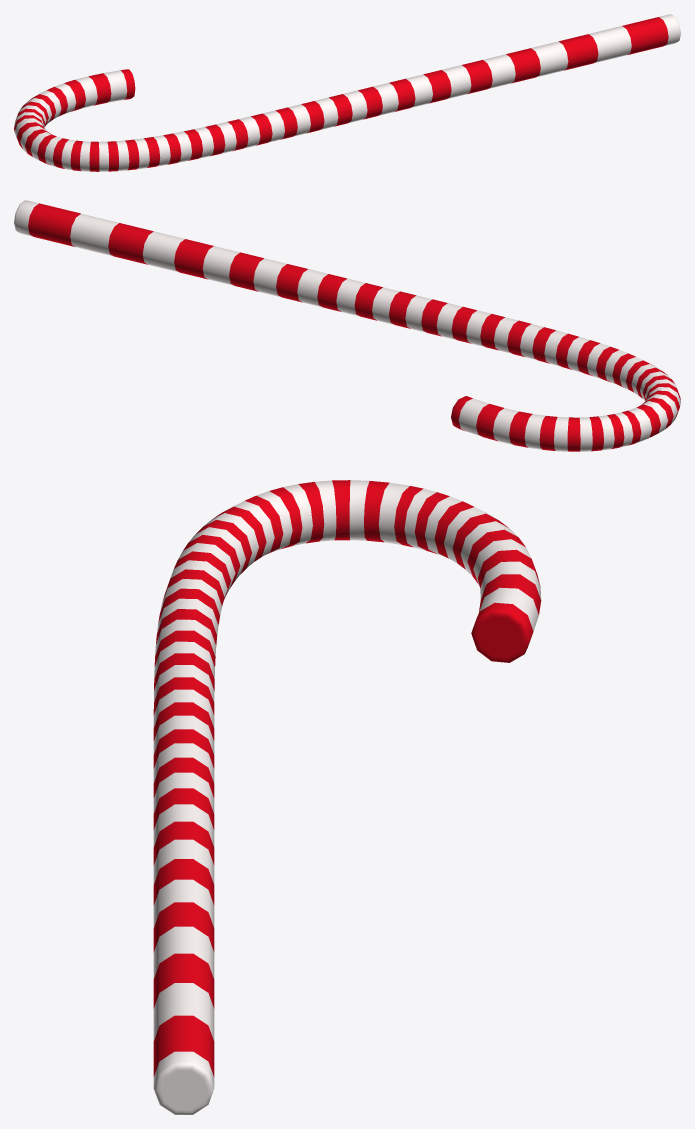
The model's file is CandyStick.fbx.
The picture shows the model from 3 angles, top to bottom: view 1: azimuth 30°, elevation 25°; view 2: azimuth 150°, elevation 25°; view 3: azimuth 270°, elevation 25°; orthographic projection. The views are drawn at different scales.
Parts seen in each view (by area): view 1: NurbsPath; view 2: NurbsPath; view 3: NurbsPath.
Boxes of the visible parts, x1,y1,x2,y2 form: NurbsPath: (14,14,680,171); NurbsPath: (14,200,680,451); NurbsPath: (153,480,541,1114).
Bounding box in the file's own units: 32 × 1.31 × 8.84.
